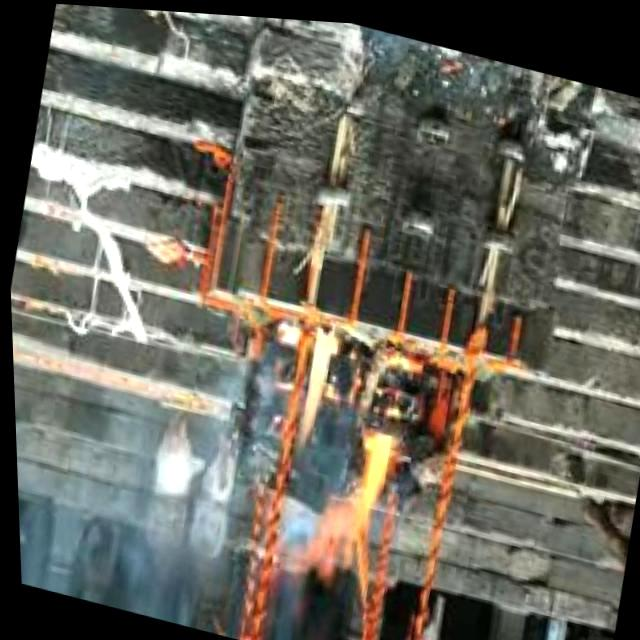fire: (296, 408, 408, 596), (270, 316, 362, 456)
